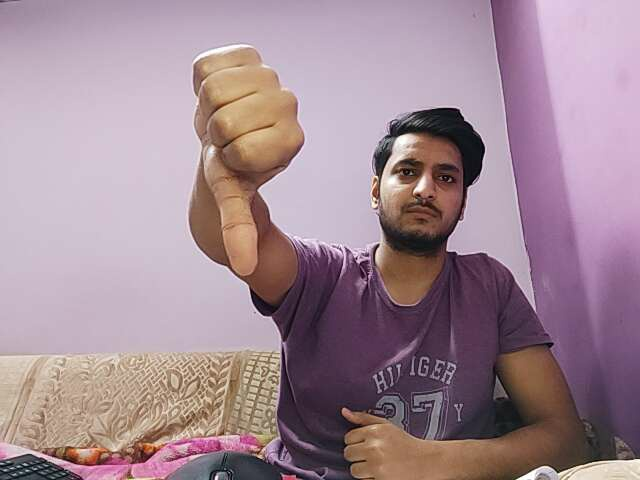ThumbsDown: (169, 39, 313, 278)
